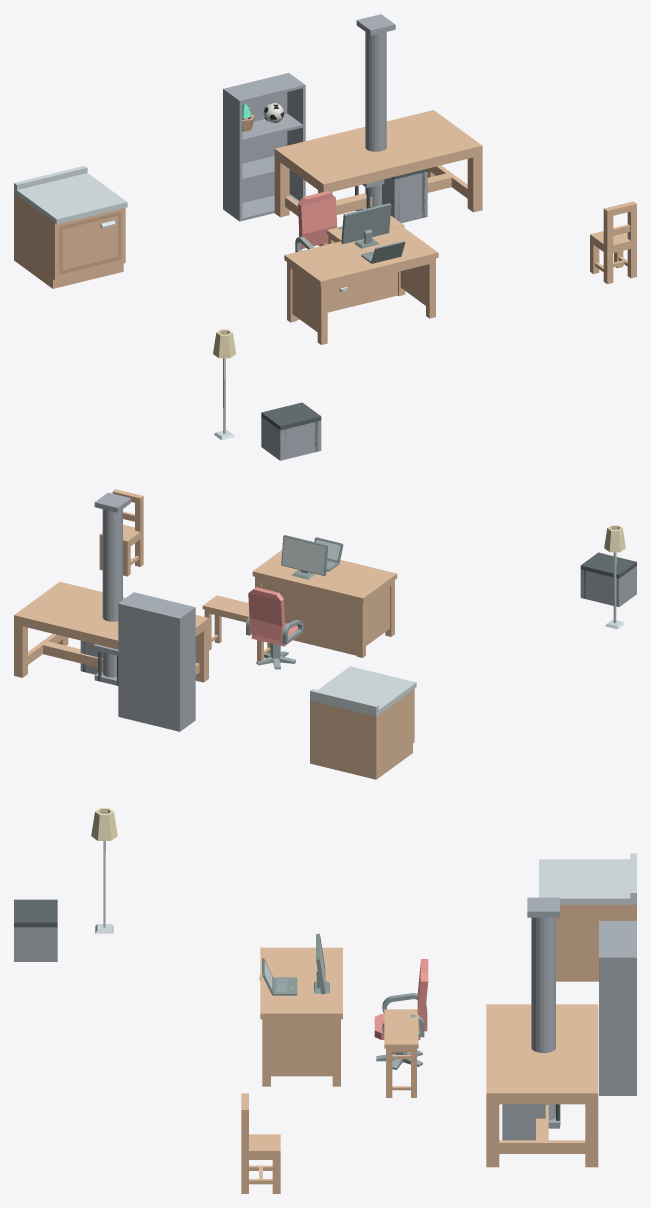
3 renders of one model, top to bottom at view 1: azimuth 30°, elevation 25°; view 2: azimuth 150°, elevation 25°; view 3: azimuth 270°, elevation 25°, orthographic. The views are drawn at different scales.
Parts seen in each view (by area): view 1: table_green__table(Clone), desk_blue__desk(Clone), cabinet_blue__kitchenCabinet(Clone), cabinet_blue__door, column_cyan__column_cyan shaft, chair_cyan__chair(Clone), shelf_orange__shelf_orange side_l, shelf_orange__shelf_orange back, deskchair_black__chair, crate_red__crate_red shell, bin_gray__bin_gray shell, monitor_gray__computerScreen(Clone) (+6 smaller); view 2: cabinet_blue__kitchenCabinet(Clone), desk_blue__desk(Clone), table_green__table(Clone), shelf_orange__shelf_orange back, column_cyan__column_cyan shaft, deskchair_black__chair, shelf_orange__shelf_orange side_l, monitor_gray__computerScreen(Clone), crate_red__crate_red shell, chair_cyan__chair(Clone), sidetable_brown__sideTable(Clone), lamp_white__lampRoundFloor(Clone) (+5 smaller); view 3: table_green__table(Clone), desk_blue__desk(Clone), cabinet_blue__kitchenCabinet(Clone), shelf_orange__shelf_orange side_r, column_cyan__column_cyan shaft, sidetable_brown__sideTable(Clone), chair_cyan__chair(Clone), crate_red__crate_red shell, bin_gray__bin_gray shell, deskchair_black__chair, shelf_orange__shelf_orange board3, crate_red__crate_red lid (+4 smaller).
Part boxes in pixels (<box>): table_green__table(Clone): <box>274,110,482,246</box>; desk_blue__desk(Clone): <box>284,226,438,344</box>; cabinet_blue__kitchenCabinet(Clone): <box>14,165,127,288</box>; cabinet_blue__door: <box>59,211,121,274</box>; column_cyan__column_cyan shaft: <box>365,32,386,208</box>; chair_cyan__chair(Clone): <box>590,201,636,284</box>; shelf_orange__shelf_orange side_l: <box>223,88,242,221</box>; shelf_orange__shelf_orange back: <box>226,73,287,202</box>; deskchair_black__chair: <box>295,191,342,252</box>; crate_red__crate_red shell: <box>261,417,321,460</box>; bin_gray__bin_gray shell: <box>382,171,427,223</box>; monitor_gray__computerScreen(Clone): <box>341,203,391,248</box>; cabinet_blue__kitchenCabinet(Clone): <box>310,666,416,779</box>; desk_blue__desk(Clone): <box>252,550,397,657</box>; table_green__table(Clone): <box>14,582,208,682</box>; shelf_orange__shelf_orange back: <box>120,603,178,731</box>; column_cyan__column_cyan shaft: <box>102,509,122,677</box>; deskchair_black__chair: <box>246,587,303,646</box>; shelf_orange__shelf_orange side_l: <box>177,606,195,731</box>; monitor_gray__computerScreen(Clone): <box>281,535,328,579</box>; crate_red__crate_red shell: <box>580,566,636,606</box>; chair_cyan__chair(Clone): <box>99,489,143,576</box>; sidetable_brown__sideTable(Clone): <box>202,595,270,661</box>; lamp_white__lampRoundFloor(Clone): <box>604,525,625,629</box>; table_green__table(Clone): <box>486,1004,598,1167</box>; desk_blue__desk(Clone): <box>260,947,342,1086</box>; cabinet_blue__kitchenCabinet(Clone): <box>539,853,636,981</box>; shelf_orange__shelf_orange side_r: <box>599,956,636,1095</box>; column_cyan__column_cyan shaft: <box>531,917,555,1120</box>; sidetable_brown__sideTable(Clone): <box>384,1009,418,1097</box>; chair_cyan__chair(Clone): <box>241,1093,280,1193</box>; crate_red__crate_red shell: <box>14,927,57,961</box>; bin_gray__bin_gray shell: <box>502,1104,545,1140</box>; deskchair_black__chair: <box>374,959,428,1039</box>; shelf_orange__shelf_orange board3: <box>599,922,634,956</box>; crate_red__crate_red lid: <box>14,899,57,927</box>.
Bounding box in the file's own units: 5.84 × 2.2 × 5.72.
